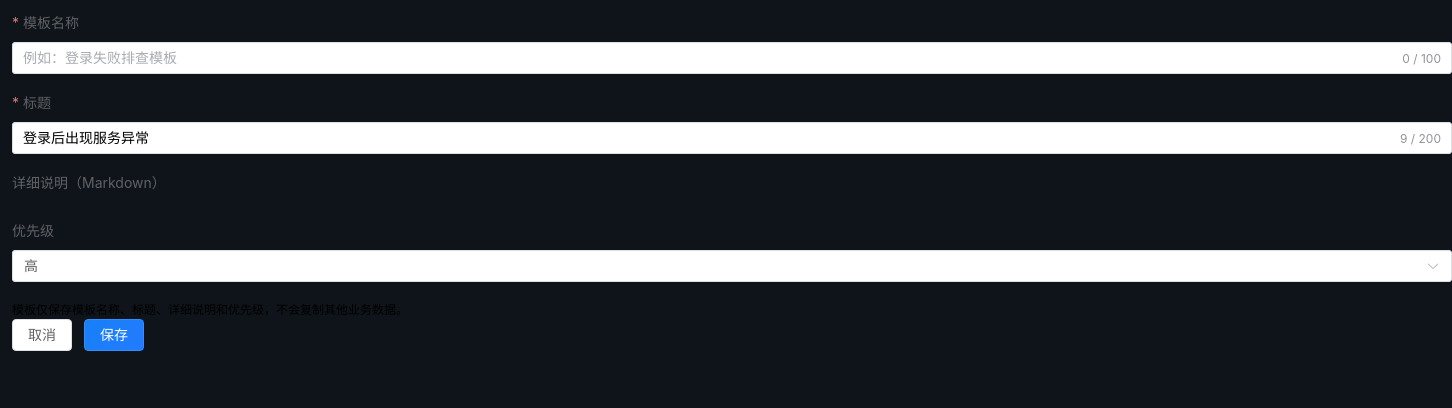
Test case: BugTemplateDialog › 后端拒绝保存时应保留弹窗并展示错误原因
The image size is (1452, 408).
Type "登录失败排查模板" into the field labelled "模板名称" at (705, 58), box [23, 43, 1386, 73]
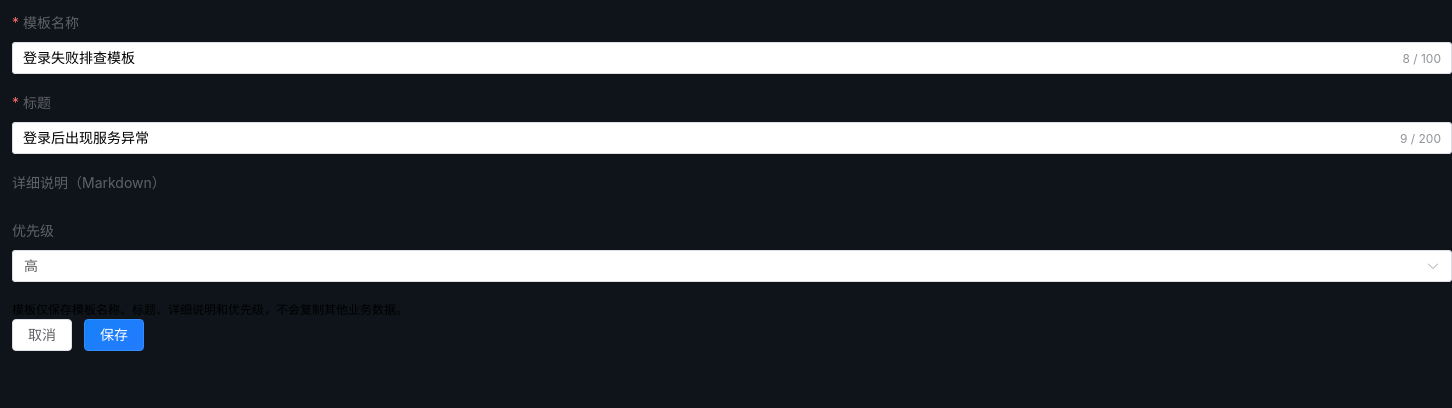
Click the button "保存" at (114, 335), box [84, 319, 144, 351]
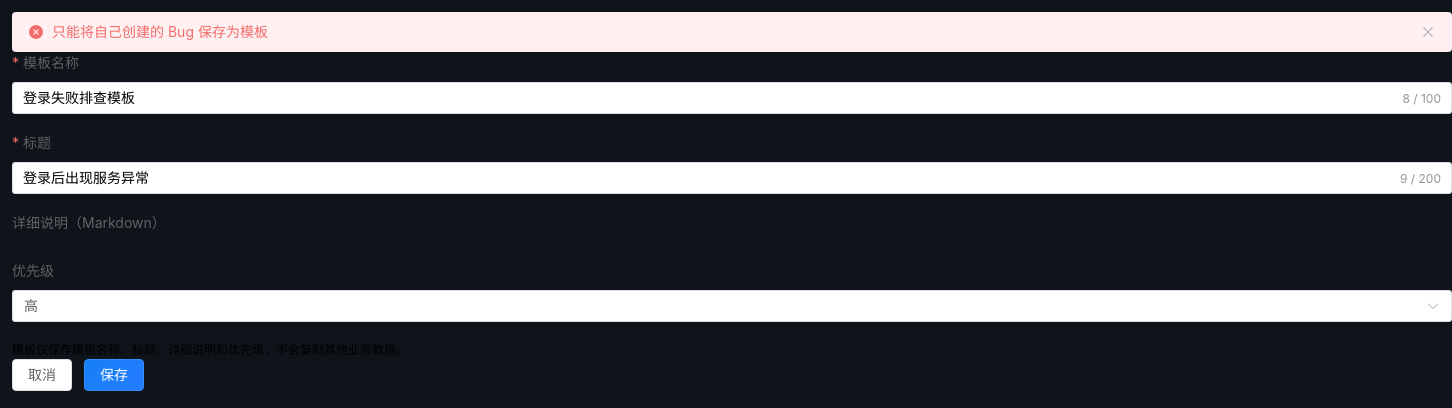
Check: the text "只能将自己创建的 Bug 保存为模板" is shown, box [52, 20, 268, 44]
